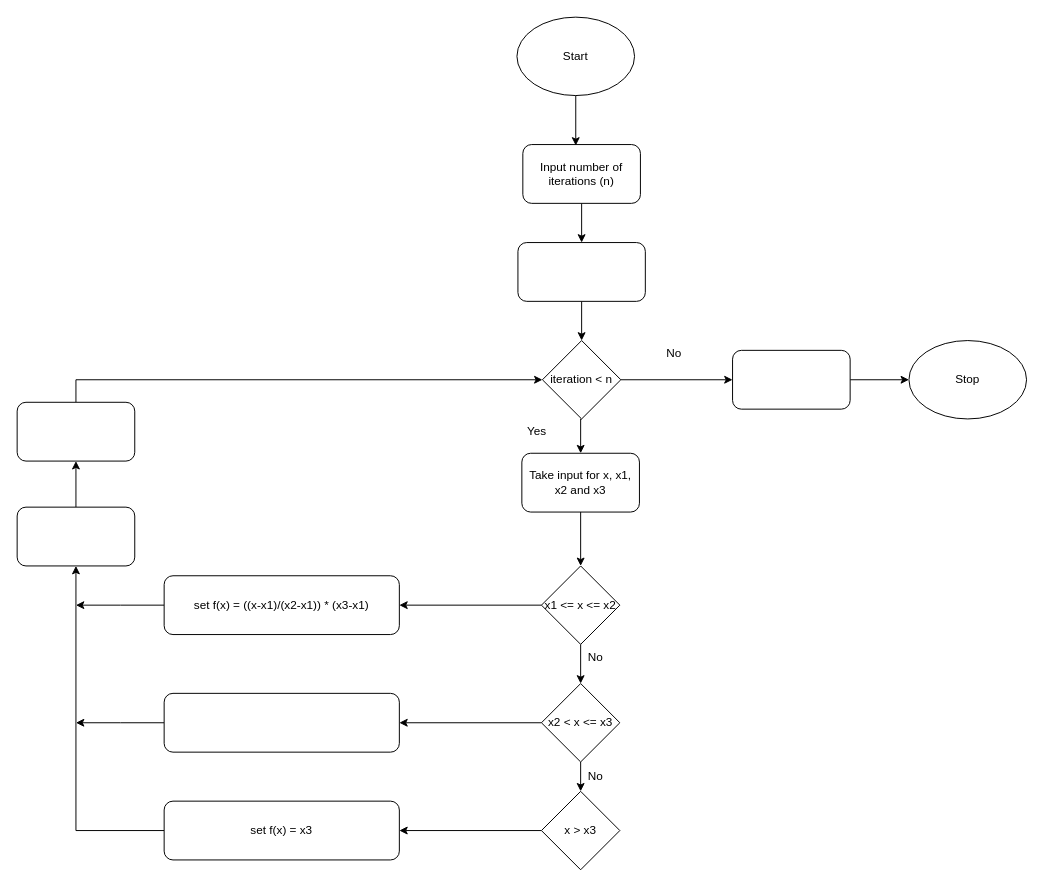
Some shapes in this 1044 by 887 pixel diagram are drawn without their labels. Each missing label, with the box of its shape:
Calculate max, min and average f(x): (16, 401, 135, 461)
iteration = iteration + 1: (16, 506, 135, 566)
print results: (732, 349, 850, 409)
Set current iteration = 0: (517, 242, 645, 301)
set f(x) = ((x-x2)/(x3-x2)) * (x2-x1): (163, 692, 399, 752)
